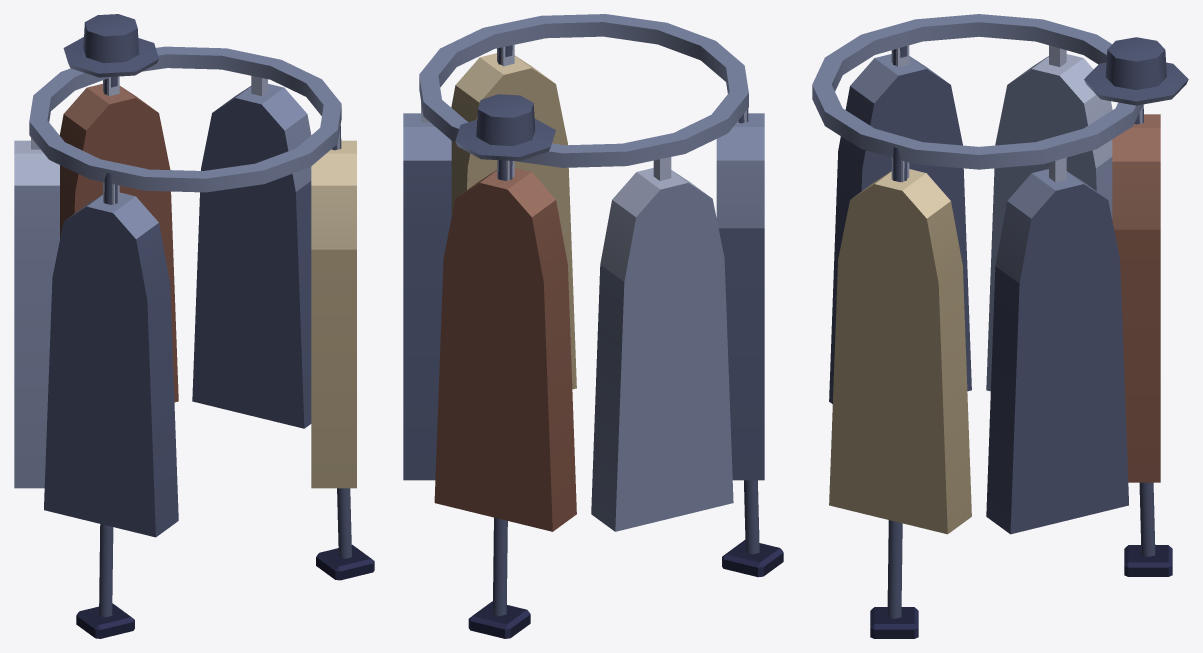
The model's file is Hide_CoatStand.fbx.
The picture shows the model from 3 angles, left to right: view 1: azimuth 30°, elevation 25°; view 2: azimuth 150°, elevation 25°; view 3: azimuth 270°, elevation 25°; orthographic projection. The views are drawn at different scales.
Visible parts, largest first — view 1: Hide_CoatStand; view 2: Hide_CoatStand; view 3: Hide_CoatStand.
Boxes of the visible parts, x1,y1,x2,y2 form: Hide_CoatStand: (14, 14, 374, 638); Hide_CoatStand: (403, 14, 783, 638); Hide_CoatStand: (812, 14, 1188, 638).
Bounding box in the file's own units: 4.75 × 7.13 × 4.67.
Materials: 1 (1 with a texture image).
